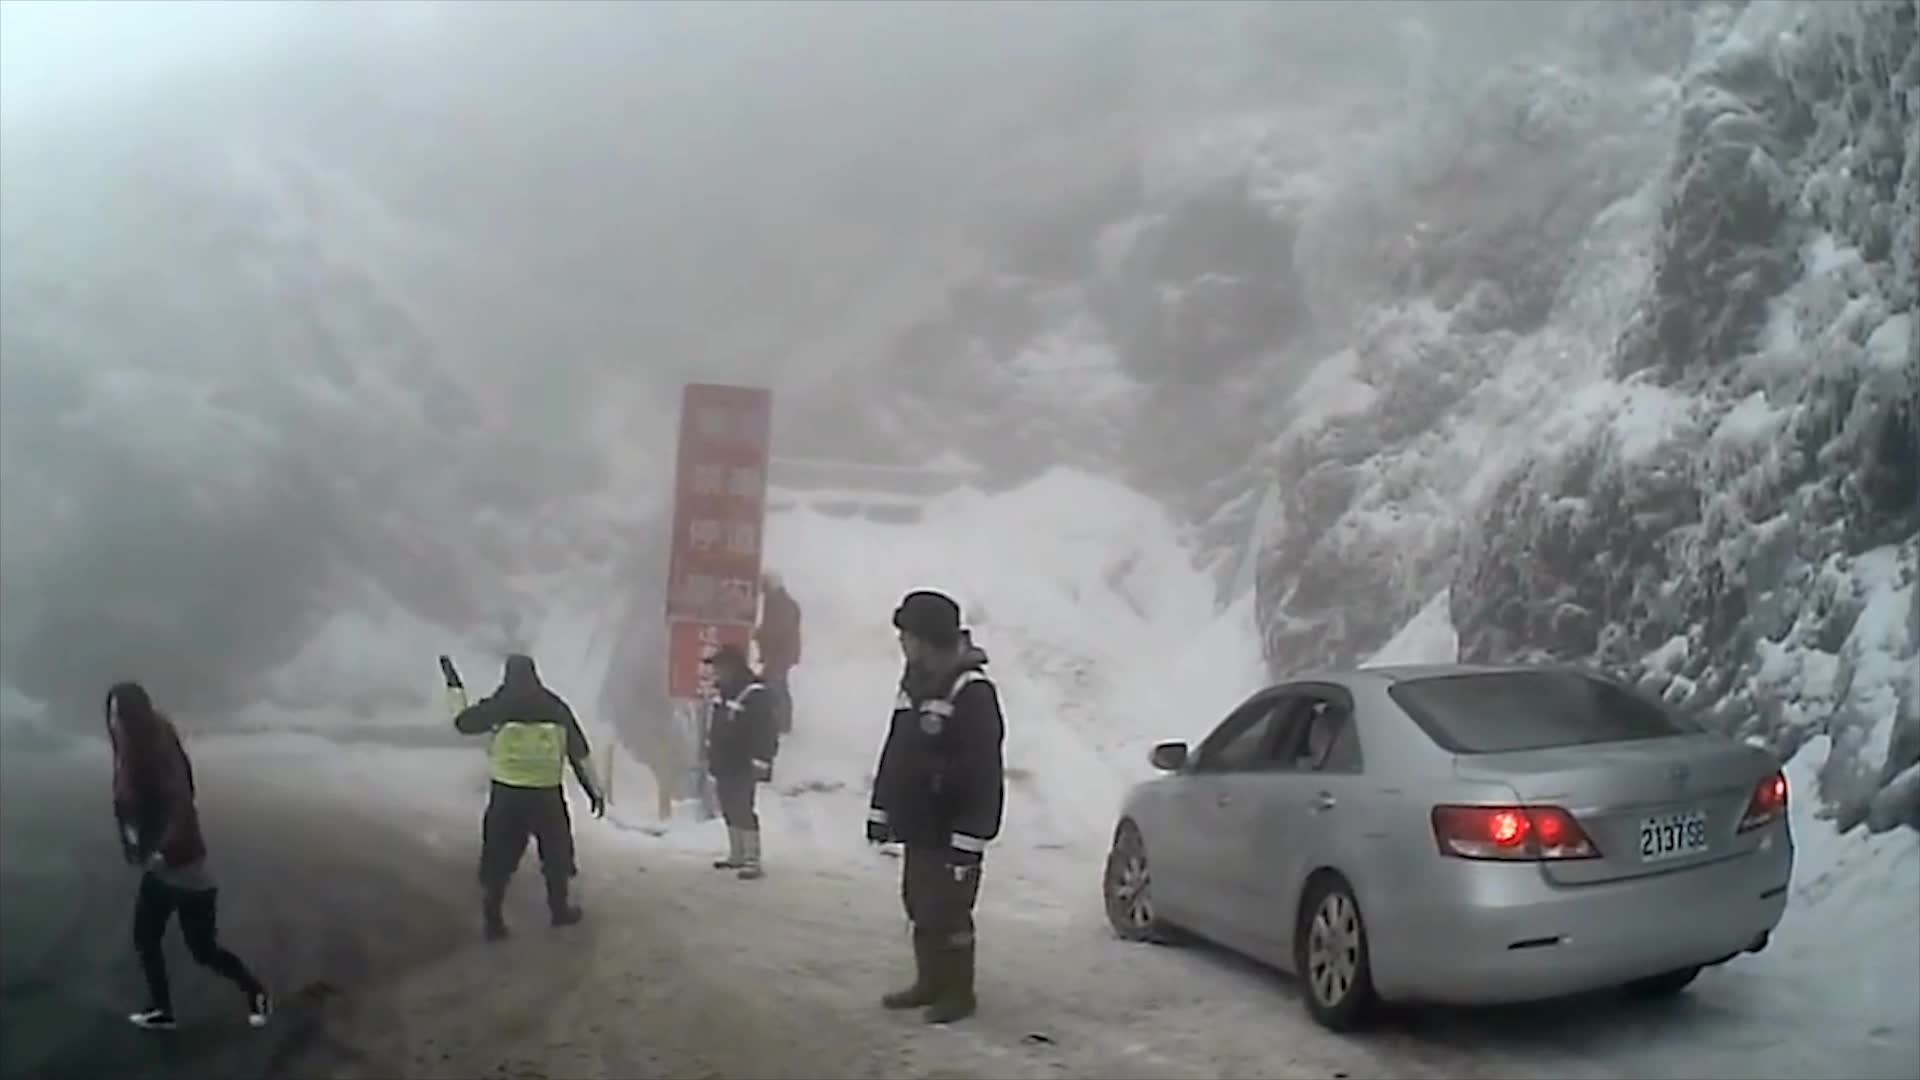pedestrian: (867, 586, 1019, 1026), (107, 687, 275, 1032), (448, 655, 599, 937), (704, 641, 787, 880), (743, 565, 810, 739)
vehicle: (1105, 658, 1795, 1027)
